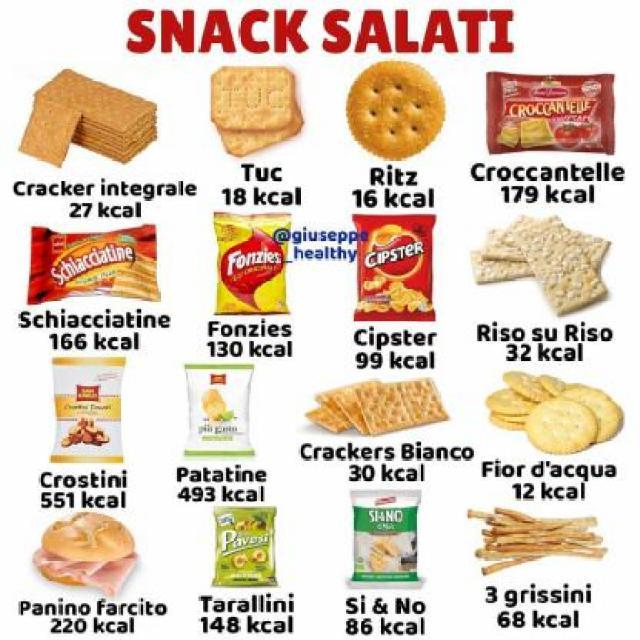Chips: (346, 210, 440, 326), (204, 207, 293, 316)
Chips packaged: (178, 361, 258, 457)
Cracker packaged: (15, 63, 164, 174), (512, 215, 616, 316), (199, 63, 303, 135), (351, 378, 446, 432)
Grissini: (462, 505, 610, 577)
Merendine: (479, 68, 621, 160)
Ritz cracker packaged: (335, 54, 453, 158), (484, 372, 628, 456)
